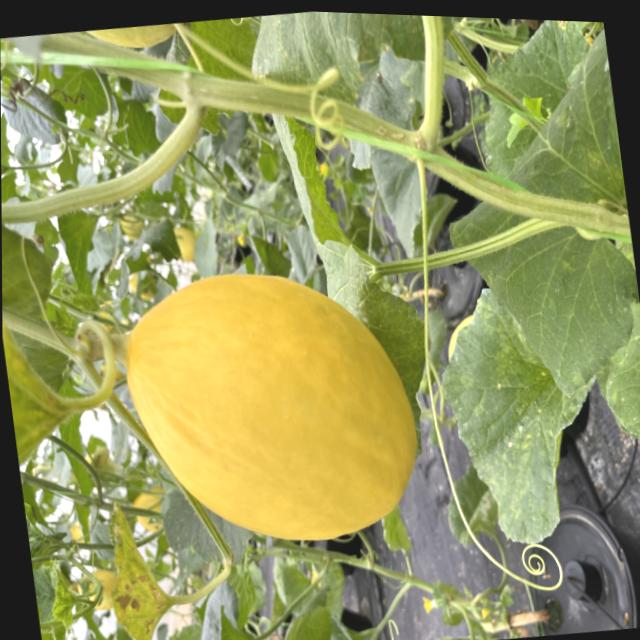downy mildew: (447, 45, 640, 409), (441, 279, 599, 554), (95, 487, 183, 640)
